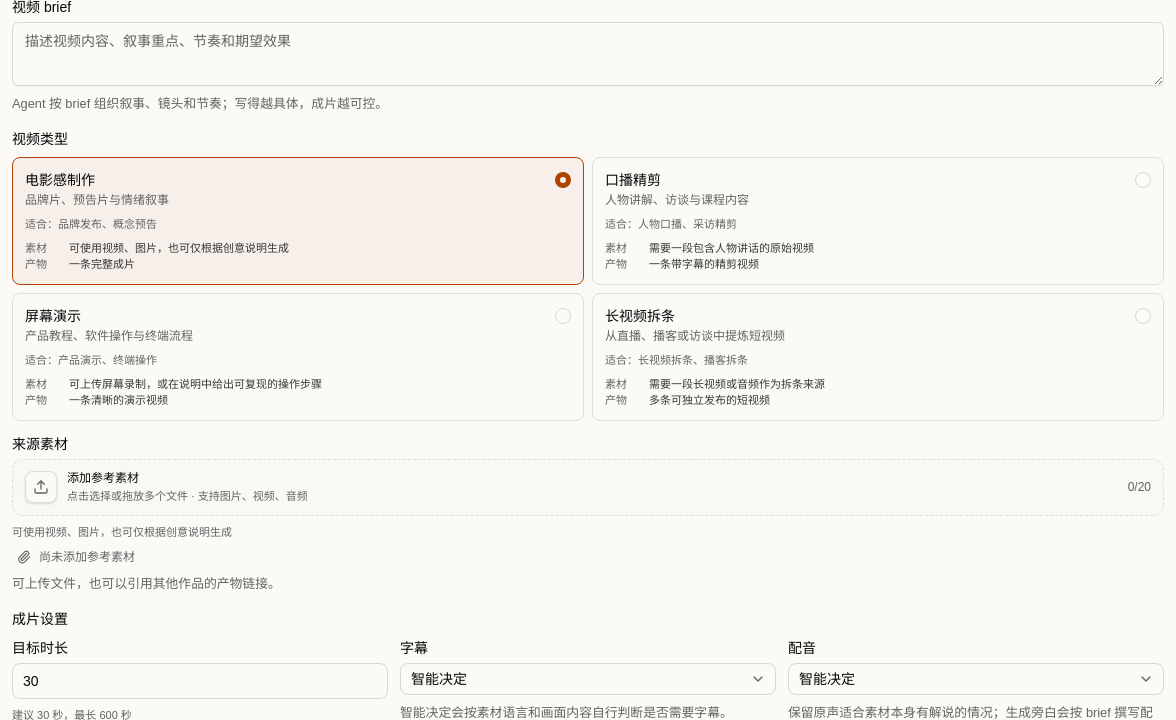
Scenario: MontageCreationPanel › blocks readiness when the target duration exceeds the catalog limit
Check: the radio button labelled "电影感制作" is checked, box [12,157,584,285]
Replace the text in the number field named "目标时长（秒）" with "601": (200, 681) [12,663,388,699]
(page scrolled)
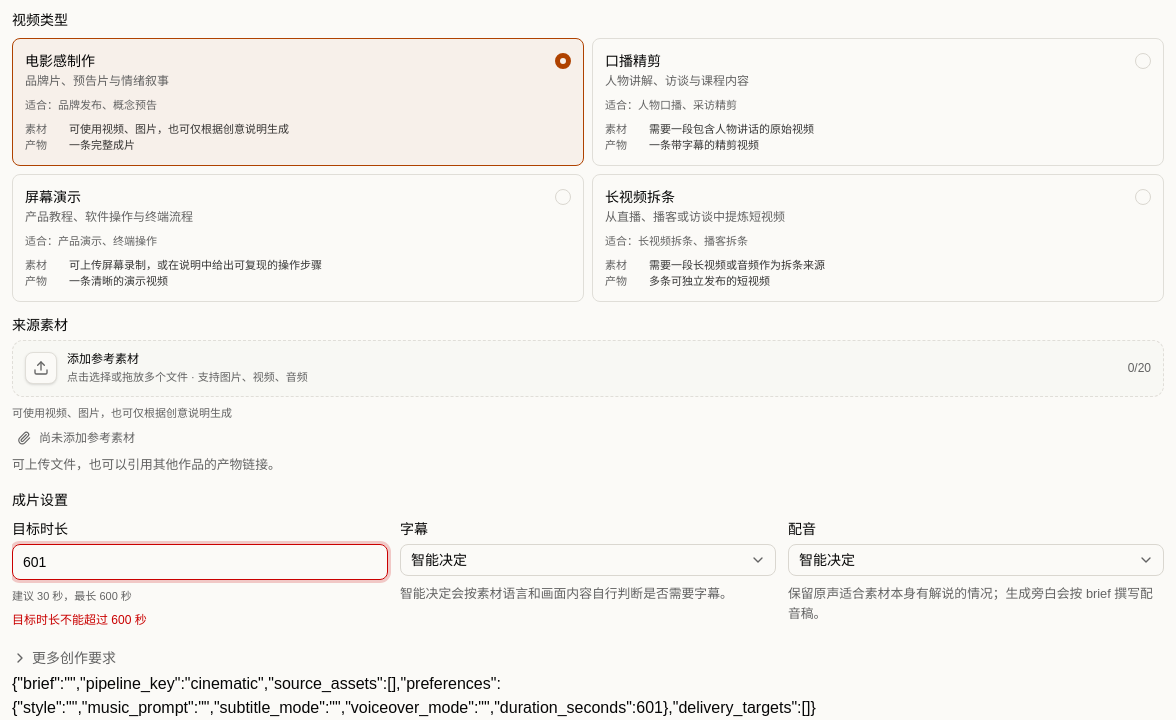
Check: the text "目标时长不能超过 600 秒" is shown, box [12,613,147,627]
